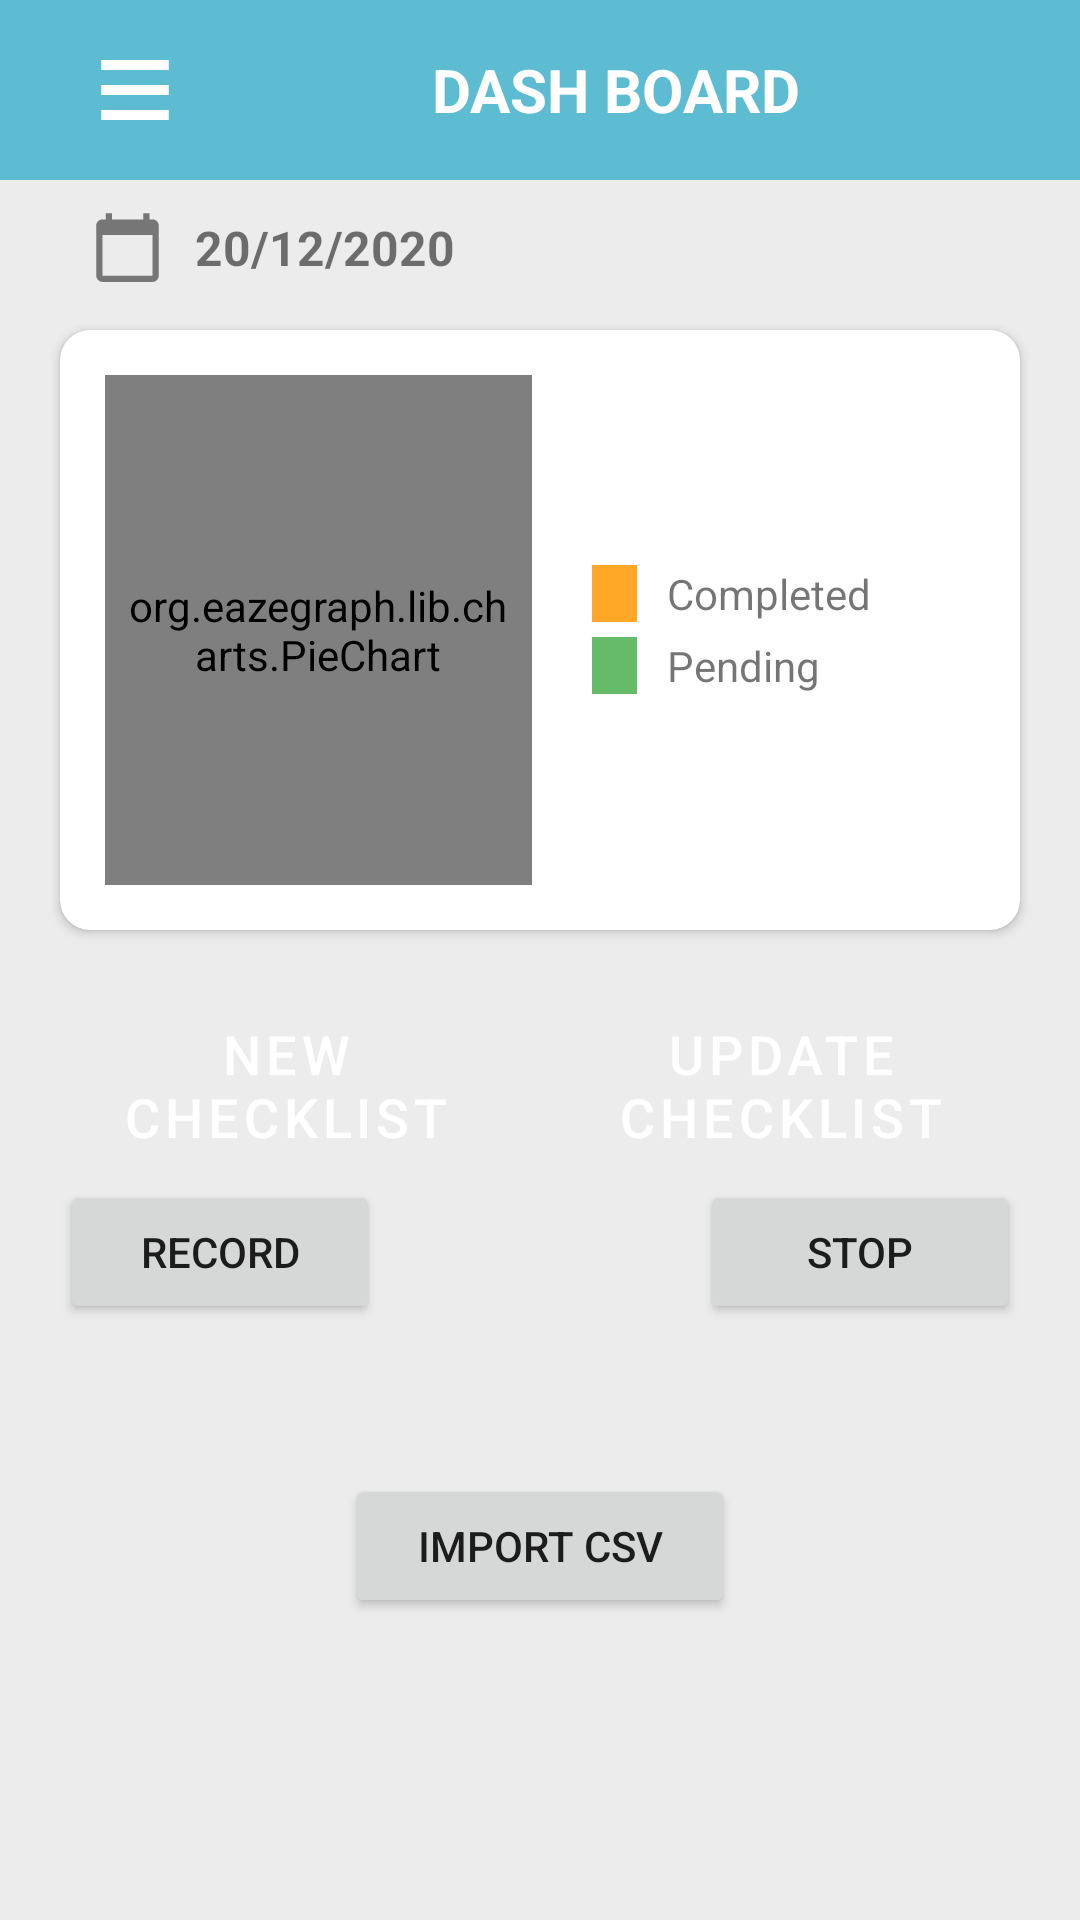

Locate icon controls on the screen. Image size 1080px×1920px, boxes as (x1, y1, x2, y2).
bar: (101, 60, 169, 120)
calender: (96, 213, 159, 282)
